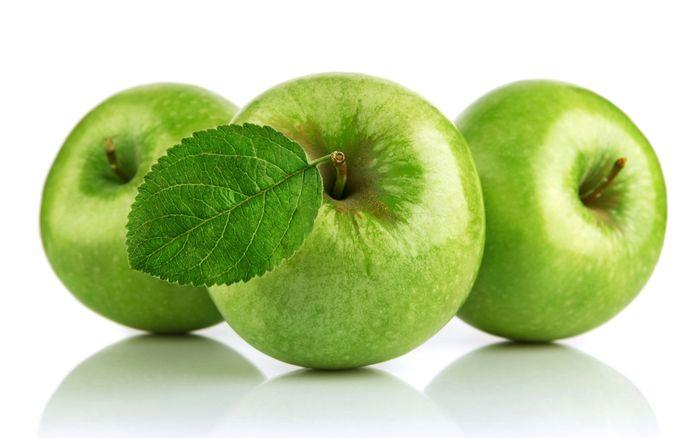apples: (225, 32, 472, 391), (23, 70, 262, 382), (475, 25, 685, 380)
